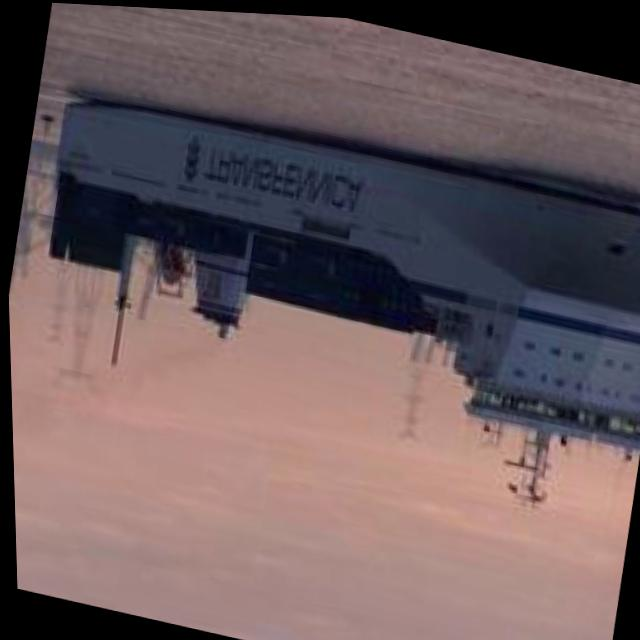ship2: (45, 94, 640, 496)
